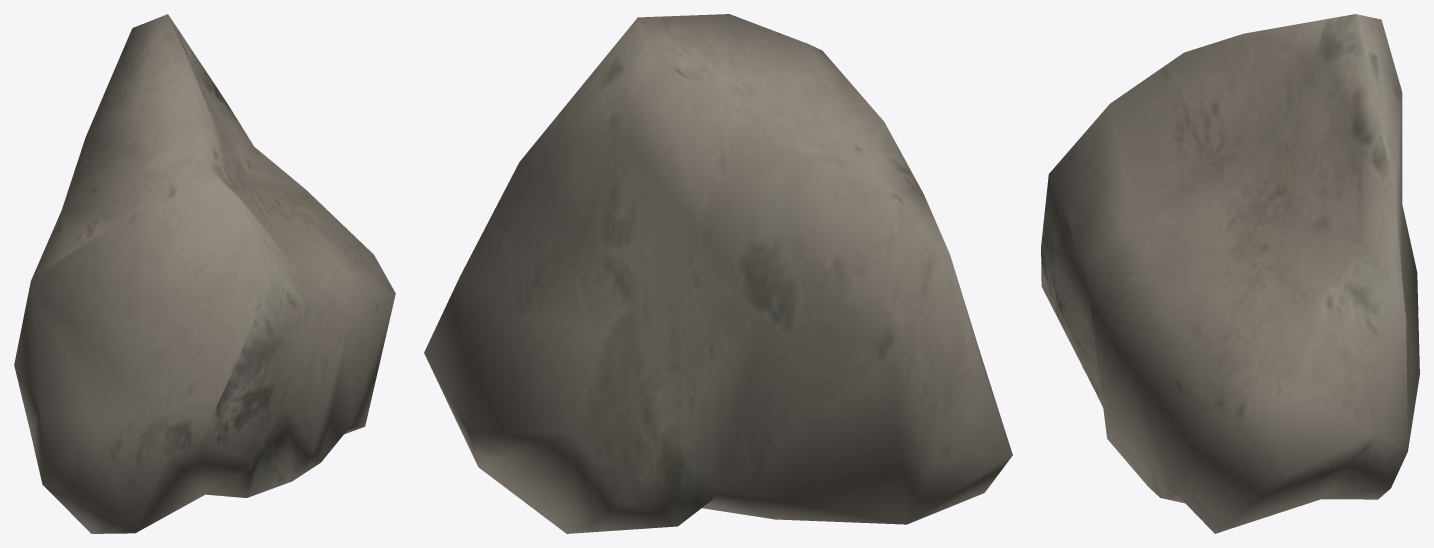
Rendered from moon_rock_03_lo.glb.
The picture shows the model from 3 angles, left to right: view 1: azimuth 30°, elevation 25°; view 2: azimuth 150°, elevation 25°; view 3: azimuth 270°, elevation 25°; orthographic projection. The views are drawn at different scales.
Parts seen in each view (by area): view 1: moon_rock_03_lo; view 2: moon_rock_03_lo; view 3: moon_rock_03_lo.
Boxes of the visible parts, x1,y1,x2,y2 form: moon_rock_03_lo: [14, 14, 395, 533]; moon_rock_03_lo: [424, 14, 1012, 533]; moon_rock_03_lo: [1041, 14, 1419, 533].
Size of the model in its own units: 1 by 1.01 by 0.7538.
1 material, 1 textured.
